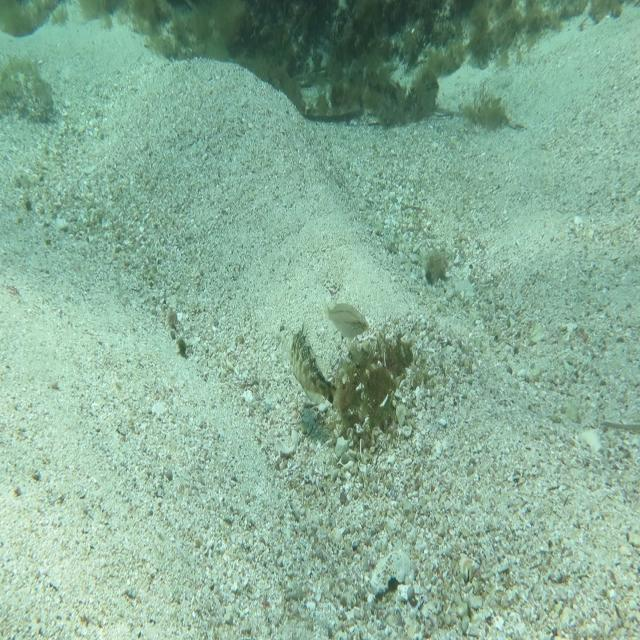BEND: (283, 320, 355, 417)
female: (314, 298, 371, 346)
nest: (321, 307, 416, 442)
vegetation: (244, 0, 512, 71), (420, 238, 454, 292)
